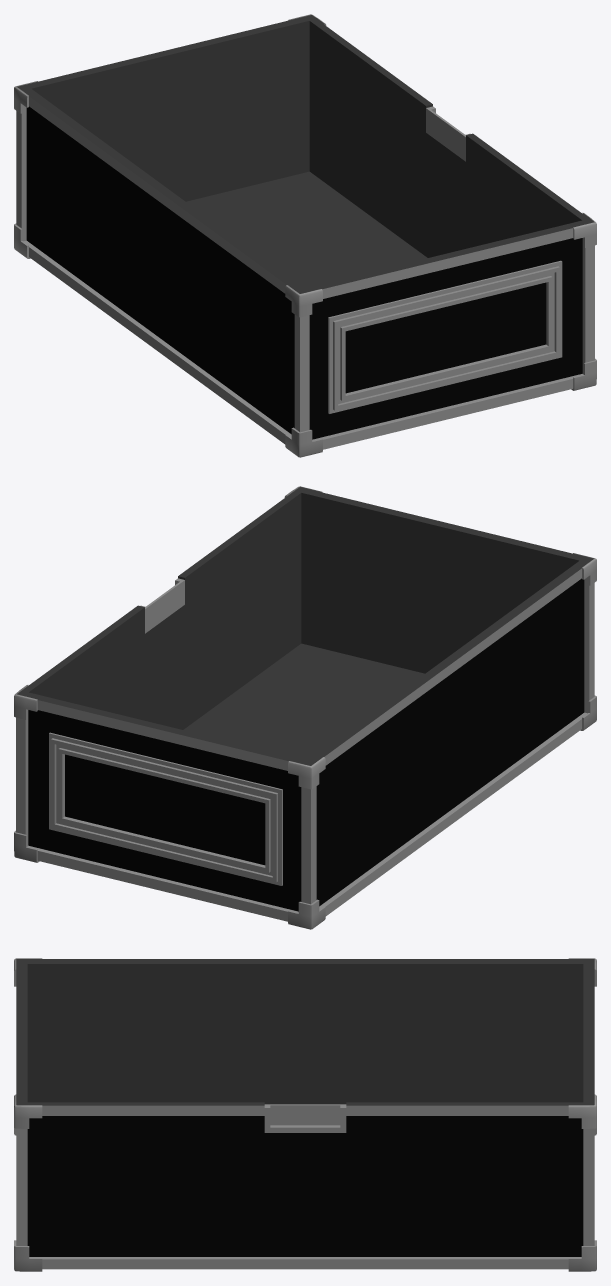
Rendered from StorageCrate_03.glb.
3 views of the same model, one above another, from view 1: azimuth 30°, elevation 25°; view 2: azimuth 150°, elevation 25°; view 3: azimuth 270°, elevation 25° (orthographic).
Visible parts, largest first — view 1: Mesh_StorageCrate_03; view 2: Mesh_StorageCrate_03; view 3: Mesh_StorageCrate_03.
Boxes of the visible parts, bbox=[...] form: Mesh_StorageCrate_03: bbox=[14, 14, 596, 457]; Mesh_StorageCrate_03: bbox=[14, 486, 596, 929]; Mesh_StorageCrate_03: bbox=[14, 958, 596, 1271].
Size of the model in its own units: 0.3056 by 0.1594 by 0.5059.
1 material, 1 textured.
